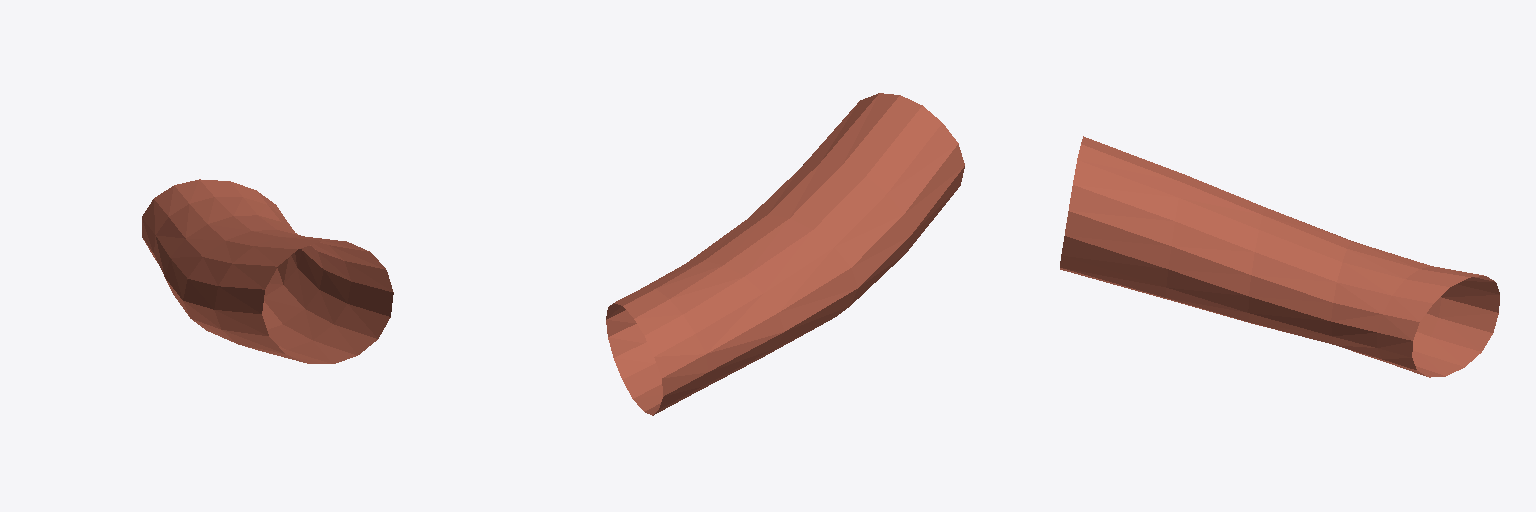
File: esophagus_upper.obj
3 views of the same model, side by side, from view 1: azimuth 30°, elevation 25°; view 2: azimuth 150°, elevation 25°; view 3: azimuth 270°, elevation 25° (orthographic).
Visible parts, largest first — view 1: esophagus_upper_esophagus.001; view 2: esophagus_upper_esophagus.001; view 3: esophagus_upper_esophagus.001.
Part boxes in pixels (x1,y1,x2,y2): esophagus_upper_esophagus.001: (142, 179, 393, 363); esophagus_upper_esophagus.001: (606, 93, 964, 415); esophagus_upper_esophagus.001: (1060, 136, 1499, 377).
Size of the model in its own units: 2.45 by 2.36 by 4.9.